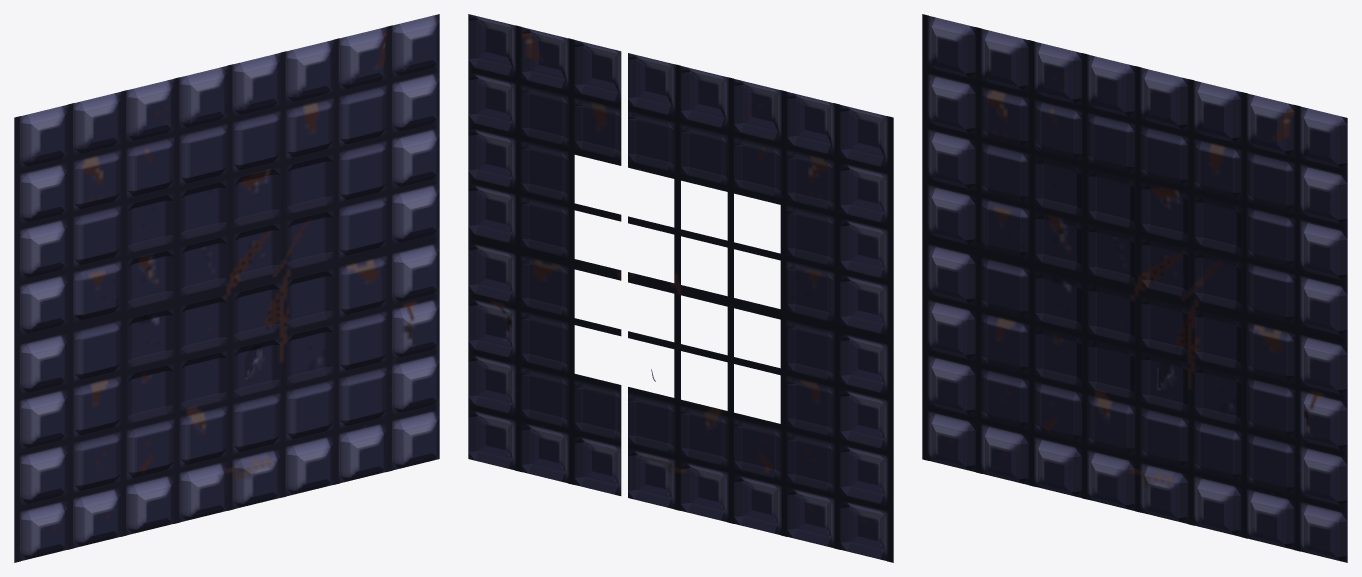
Rendered from med1_1.fbx.
The picture shows the model from 3 angles, left to right: view 1: azimuth 30°, elevation 25°; view 2: azimuth 150°, elevation 25°; view 3: azimuth 330°, elevation 25°; orthographic projection.
Visible parts, largest first — view 1: med1_1_mesh; view 2: med1_1_mesh; view 3: med1_1_mesh.
Part boxes in pixels (bbox=[...]): med1_1_mesh: bbox=[14, 14, 439, 562]; med1_1_mesh: bbox=[468, 14, 893, 562]; med1_1_mesh: bbox=[922, 14, 1347, 562].
Bounding box in the file's own units: 256 × 256 × 8.42.
